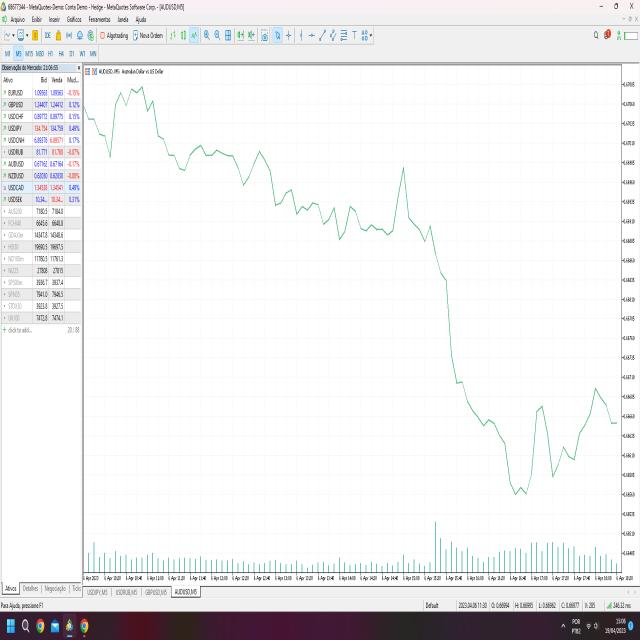fundo_duplo: (474, 309, 597, 516)
